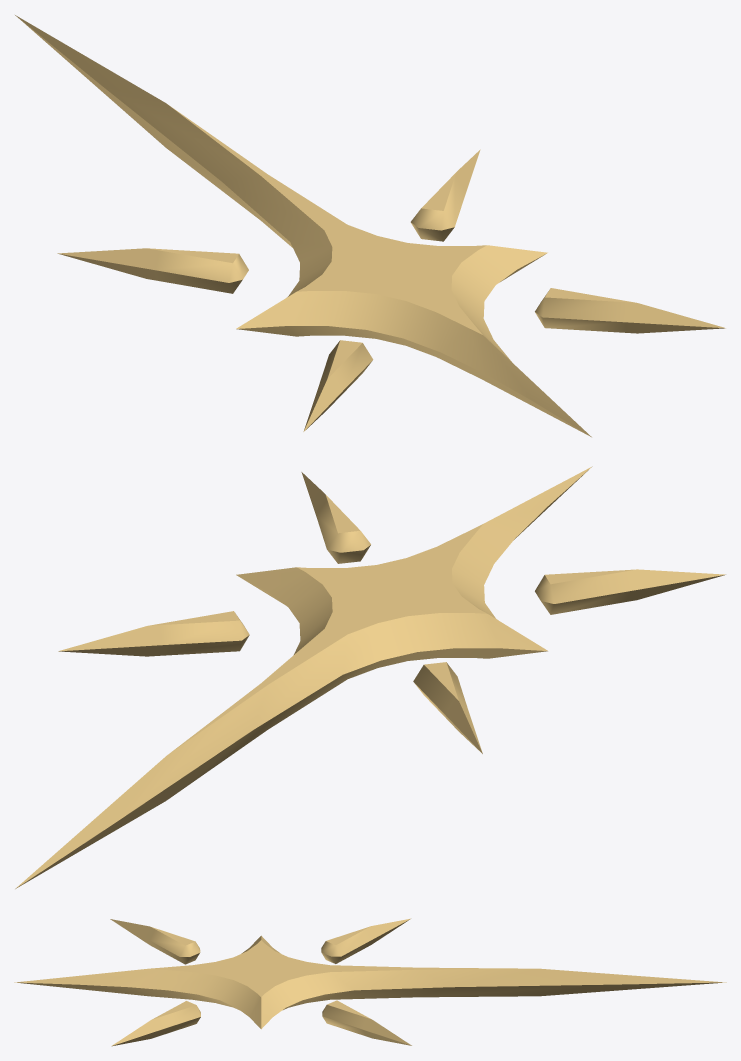
File: Sigil13.fbx
3 views of the same model, one above another, from view 1: azimuth 30°, elevation 25°; view 2: azimuth 150°, elevation 25°; view 3: azimuth 270°, elevation 25° (orthographic). The views are drawn at different scales.
Parts seen in each view (by area): view 1: Sigil_13; view 2: Sigil_13; view 3: Sigil_13.
Boxes of the visible parts, left/top/right/bottom form: Sigil_13: left=15, top=15, right=725, bottom=437; Sigil_13: left=15, top=466, right=725, bottom=888; Sigil_13: left=14, top=918, right=726, bottom=1046.
Bounding box in the file's own units: 0.0433 × 0.00436 × 0.102.
